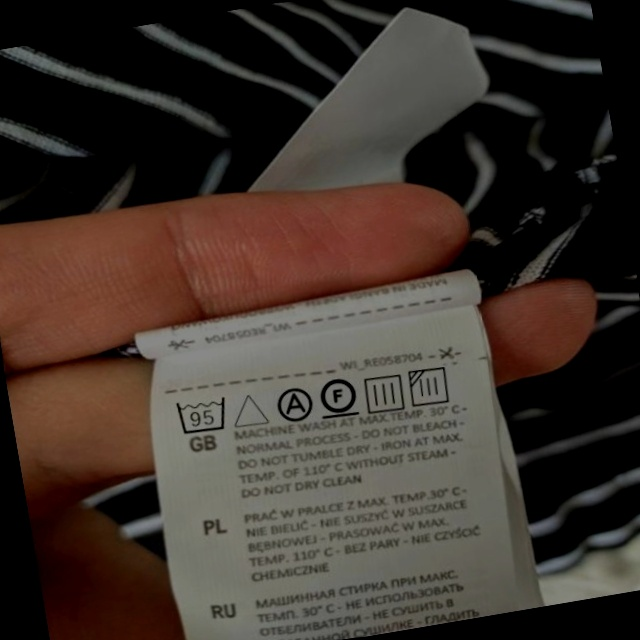95C: (172, 391, 233, 439)
bleach: (229, 386, 271, 433)
drip_dry: (359, 368, 409, 417)
drip_dry_in_shade: (406, 361, 457, 412)
dry_clean: (272, 383, 316, 426)
dry_clean_petrol_only: (316, 371, 362, 422)
